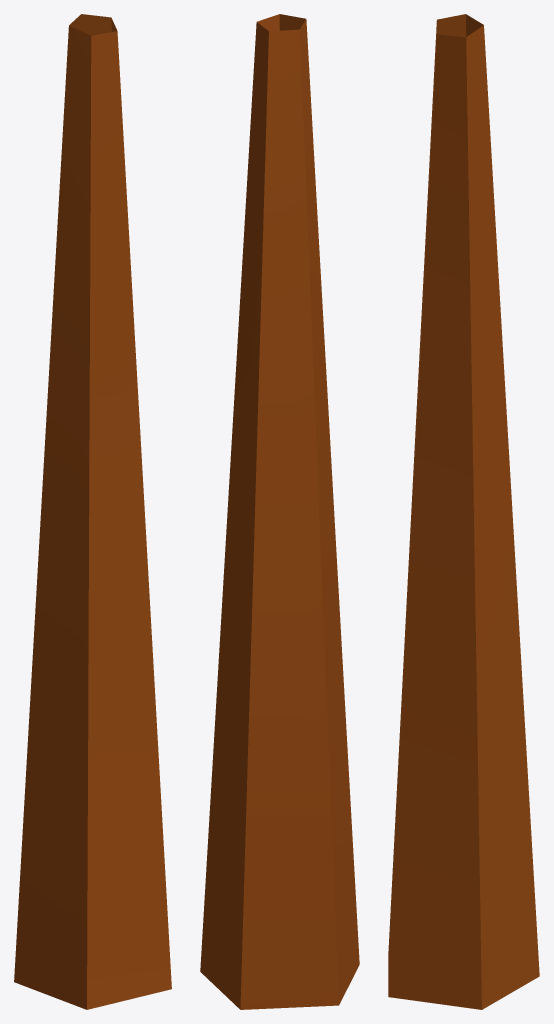
Rendered from TreeTrunk_01.fbx.
3 views of the same model, side by side, from view 1: azimuth 30°, elevation 25°; view 2: azimuth 150°, elevation 25°; view 3: azimuth 270°, elevation 25° (orthographic).
Parts seen in each view (by area): view 1: TreeTrunk_01; view 2: TreeTrunk_01; view 3: TreeTrunk_01.
Boxes of the visible parts, bbox=[...] form: TreeTrunk_01: bbox=[14, 14, 171, 1009]; TreeTrunk_01: bbox=[200, 14, 359, 1009]; TreeTrunk_01: bbox=[388, 14, 539, 1009].
Bounding box in the file's own units: 38 × 251 × 36.2.
